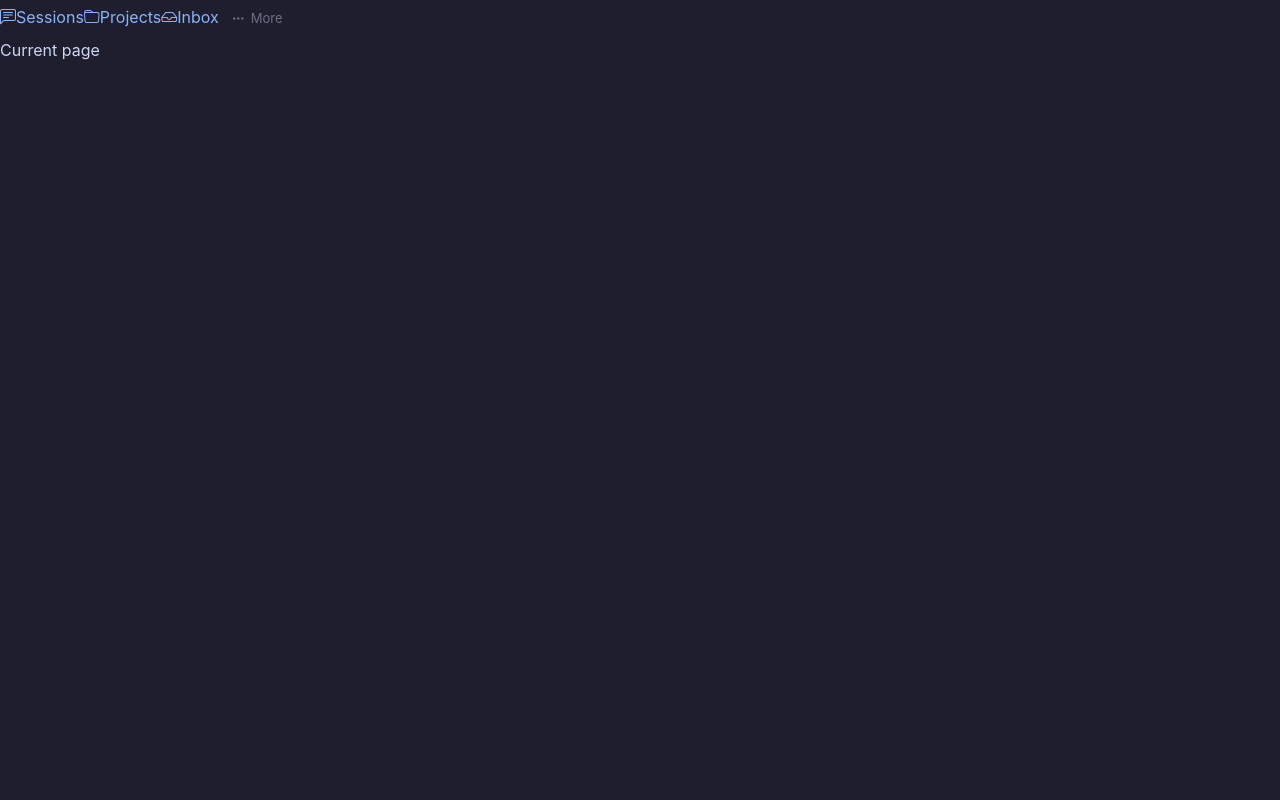
Test: phone navigation › closes after secondary navigation and highlights More
This screenshot has width=1280, height=800.
Click the button "More": [257, 19] box 219,0 -> 296,38
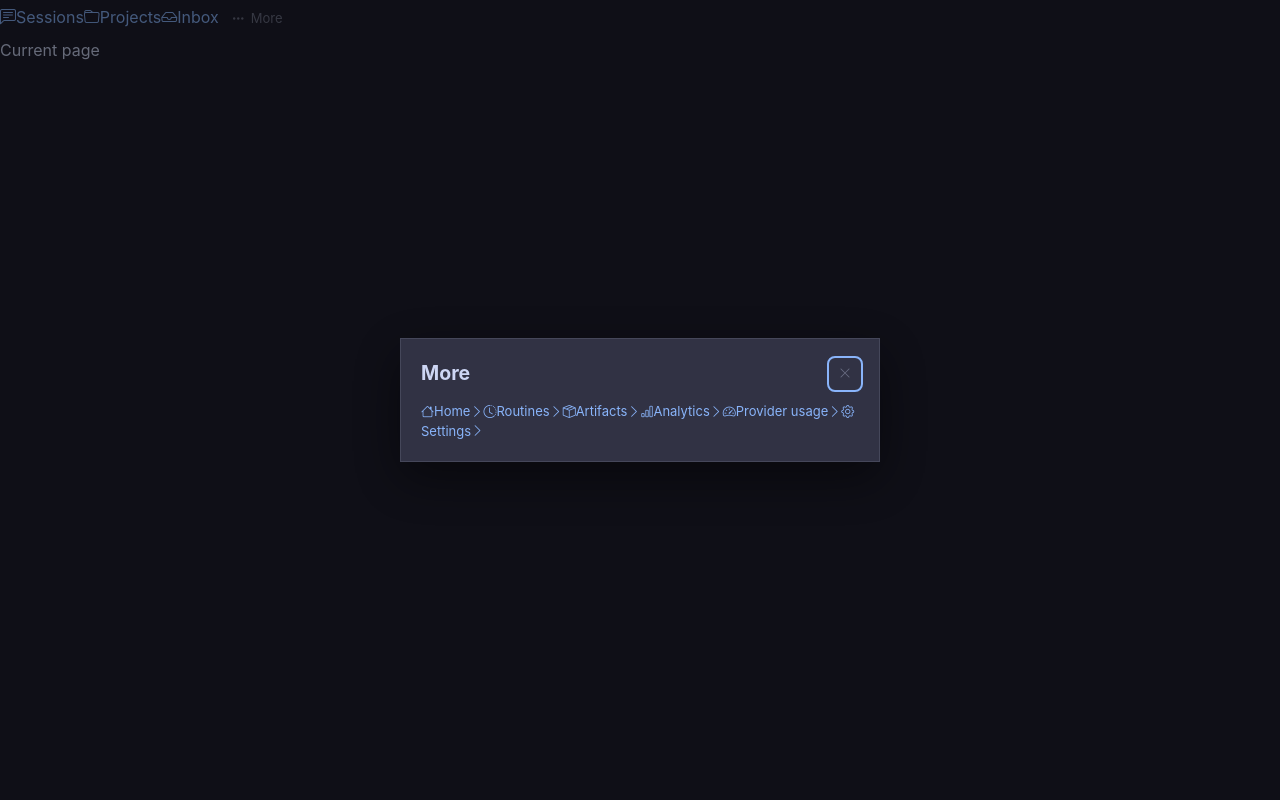
Click the link "Settings": [848, 411] box 421,403 -> 854,439
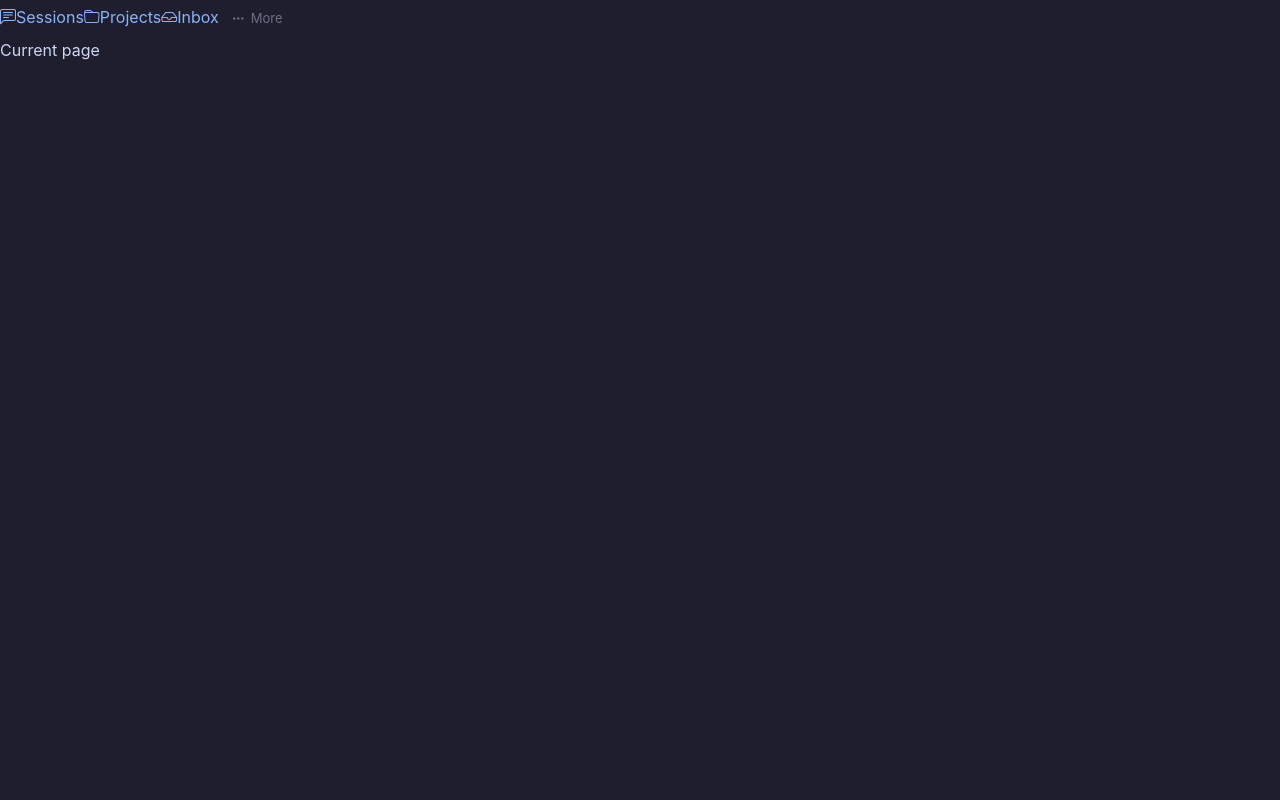
expect the dialog is gone: met
Click the button "More": [257, 19] box 219,0 -> 296,38
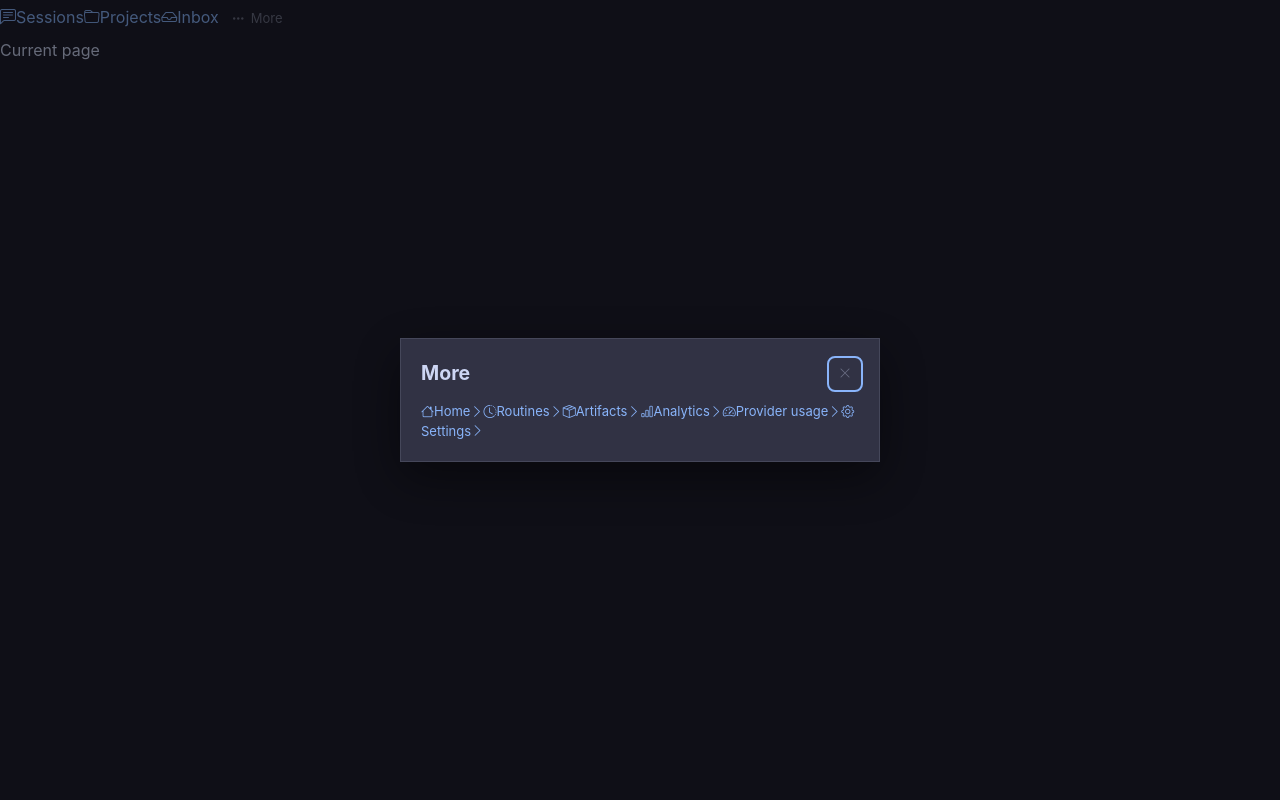
Click the button named "Close more destinations": [845, 374] box 831,360 -> 859,388
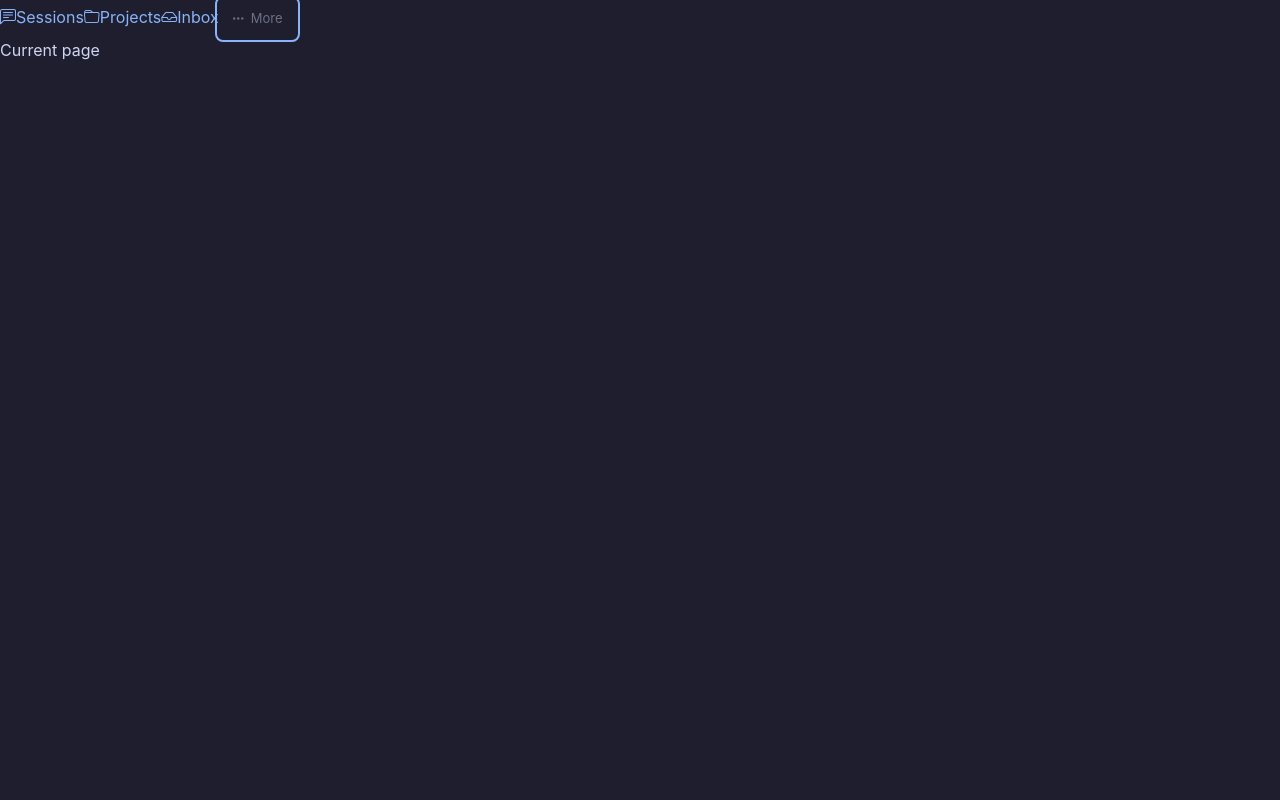
expect the dialog is gone: met
